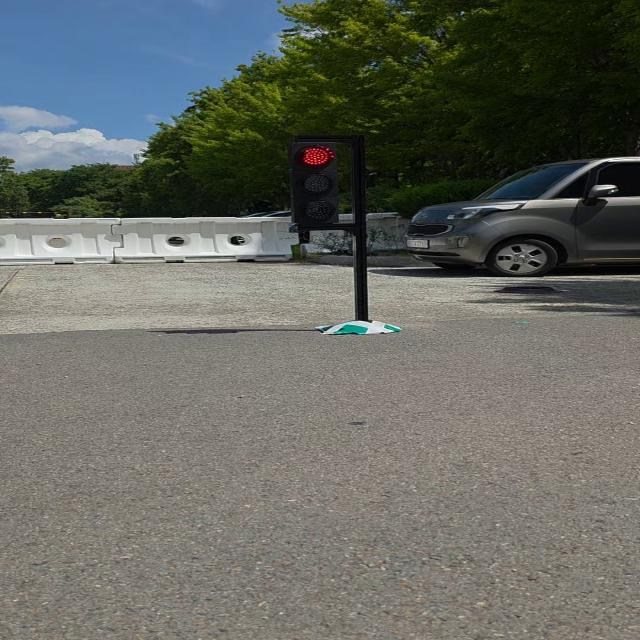red: (283, 138, 348, 230)
